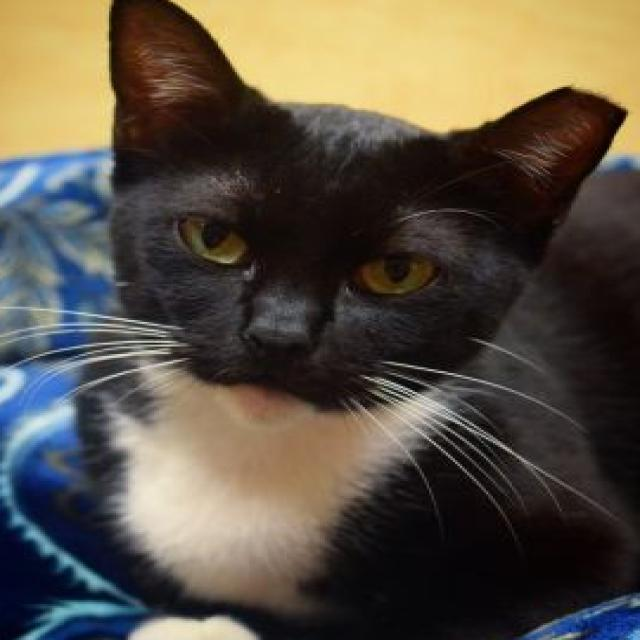Tuxedo: (68, 0, 640, 640)
